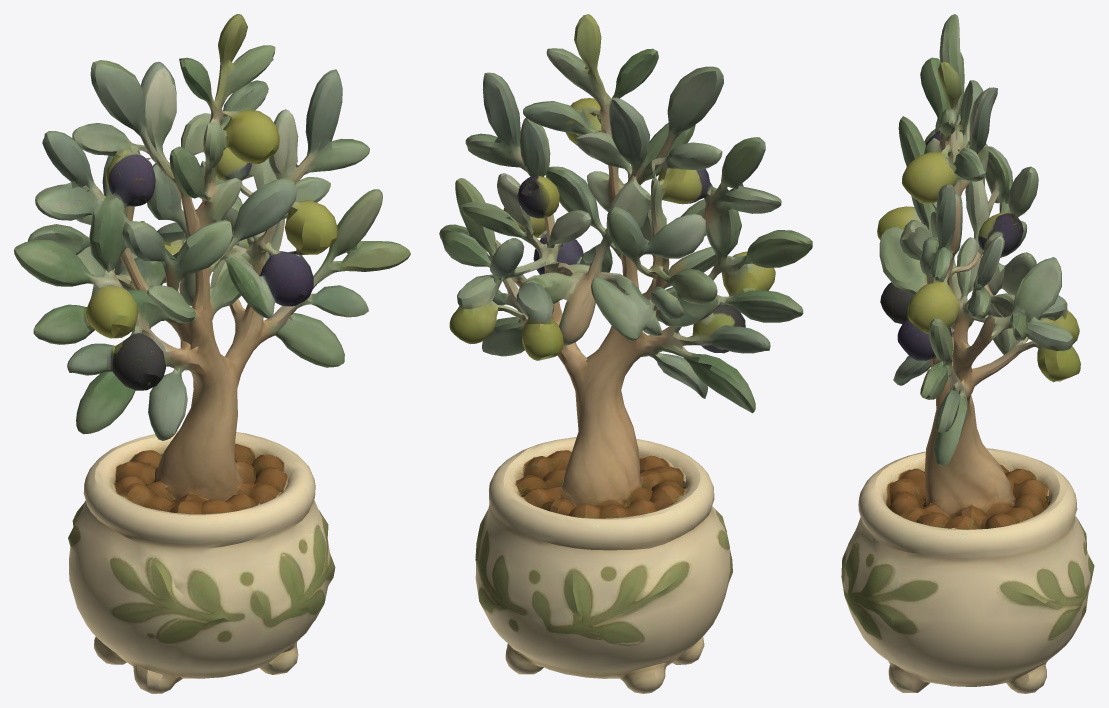
The model's file is Meshy_AI_model.glb.
3 renders of one model, left to right at view 1: azimuth 30°, elevation 25°; view 2: azimuth 150°, elevation 25°; view 3: azimuth 270°, elevation 25°, orthographic. The views are drawn at different scales.
Visible parts, largest first — view 1: Mesh0; view 2: Mesh0; view 3: Mesh0.
Boxes of the visible parts, x1,y1,x2,y2 form: Mesh0: (14,14,410,693); Mesh0: (439,14,812,693); Mesh0: (841,14,1094,693).
Bounding box in the file's own units: 1.18 × 1.89 × 0.7002.
Materials: 1 (1 with a texture image).
